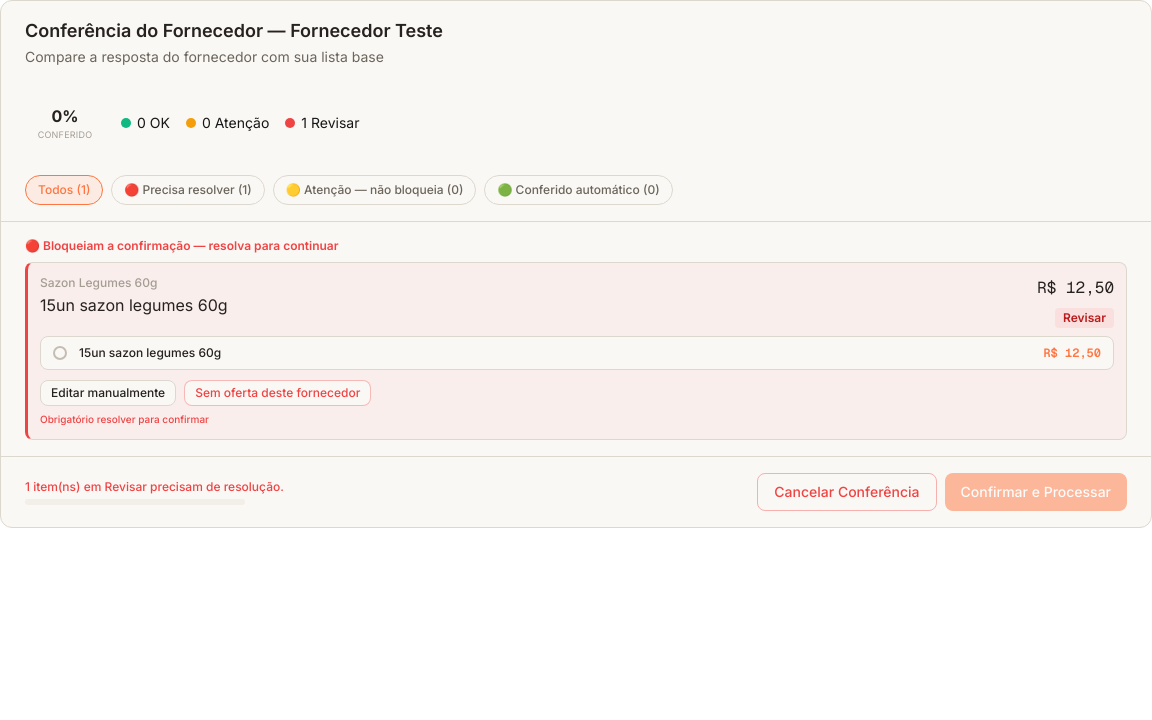
Scenario: ConferenciaPendente — ResolucaoInline › "Editar manualmente" abre o formulário já preenchido com a opção atual
Click the button "Editar manualmente" at (108, 393), box [40,380,176,406]
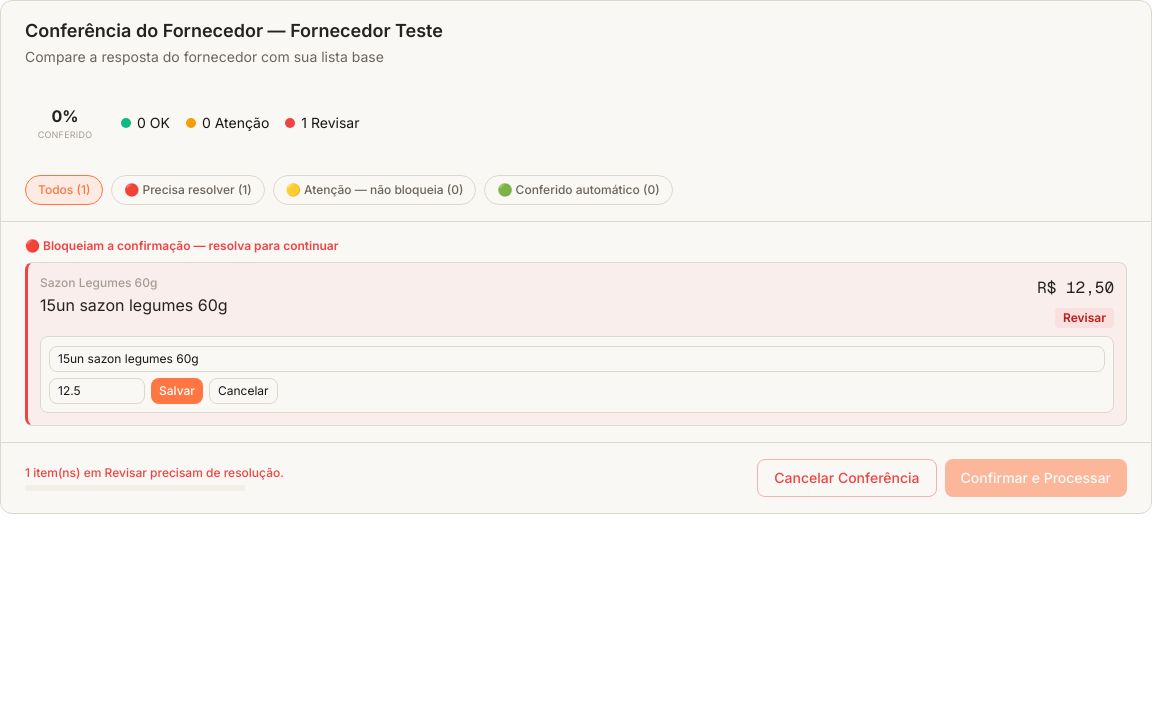
Result: the 1st field with placeholder "Descrição do produto" holds "15un sazon legumes 60g" at [49,346,1105,372]
Result: the 2nd field with placeholder "Preço" holds "12.5" at [49,378,145,404]
